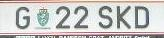2: (55, 5, 70, 29), (73, 6, 88, 28)
D: (134, 5, 149, 29)
G: (15, 7, 31, 29)
K: (116, 5, 131, 30)
S: (99, 5, 113, 28)
